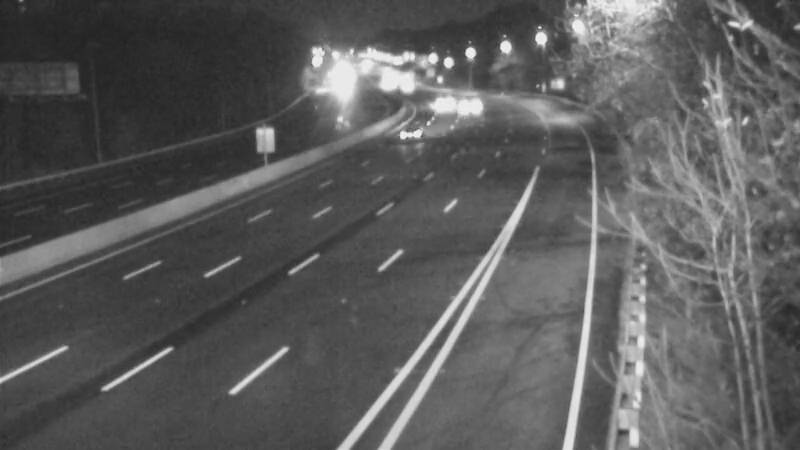vehicle: (417, 77, 467, 127), (444, 84, 494, 134), (378, 113, 428, 163)
